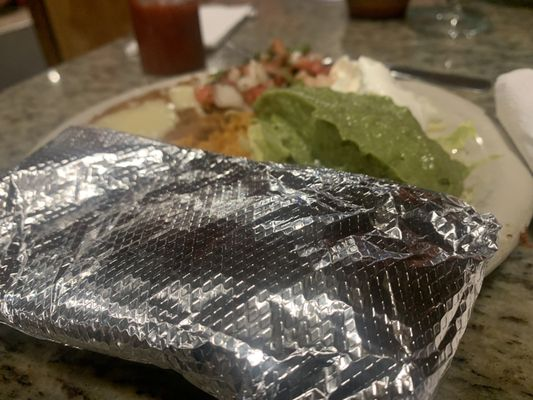pizza: (127, 0, 206, 76)
